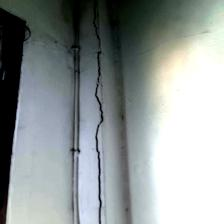High: (82, 3, 115, 224)
